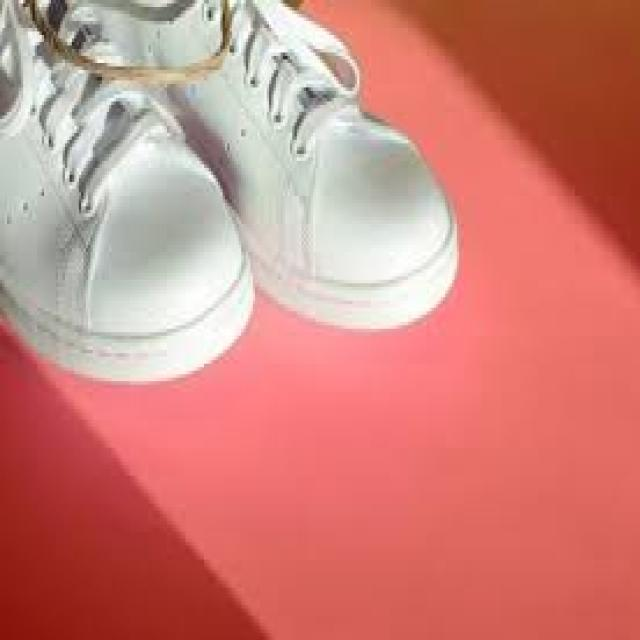shoe: (73, 0, 474, 343), (0, 0, 261, 396)
